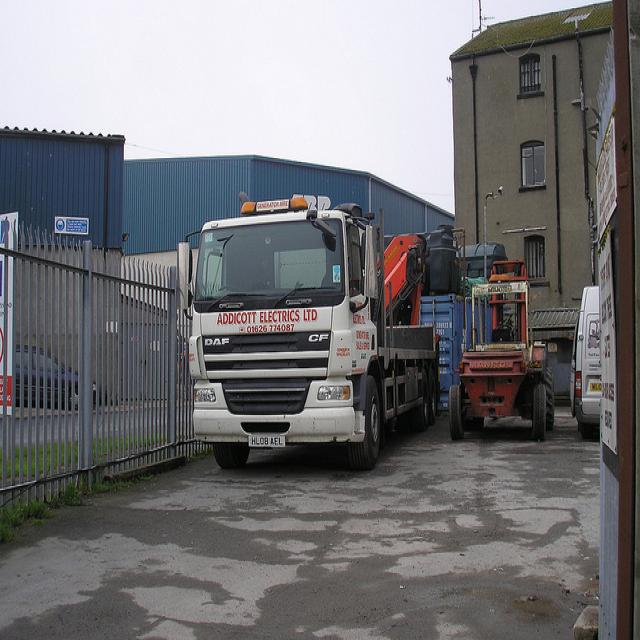Vehicle: (175, 198, 446, 477), (576, 285, 602, 438)
